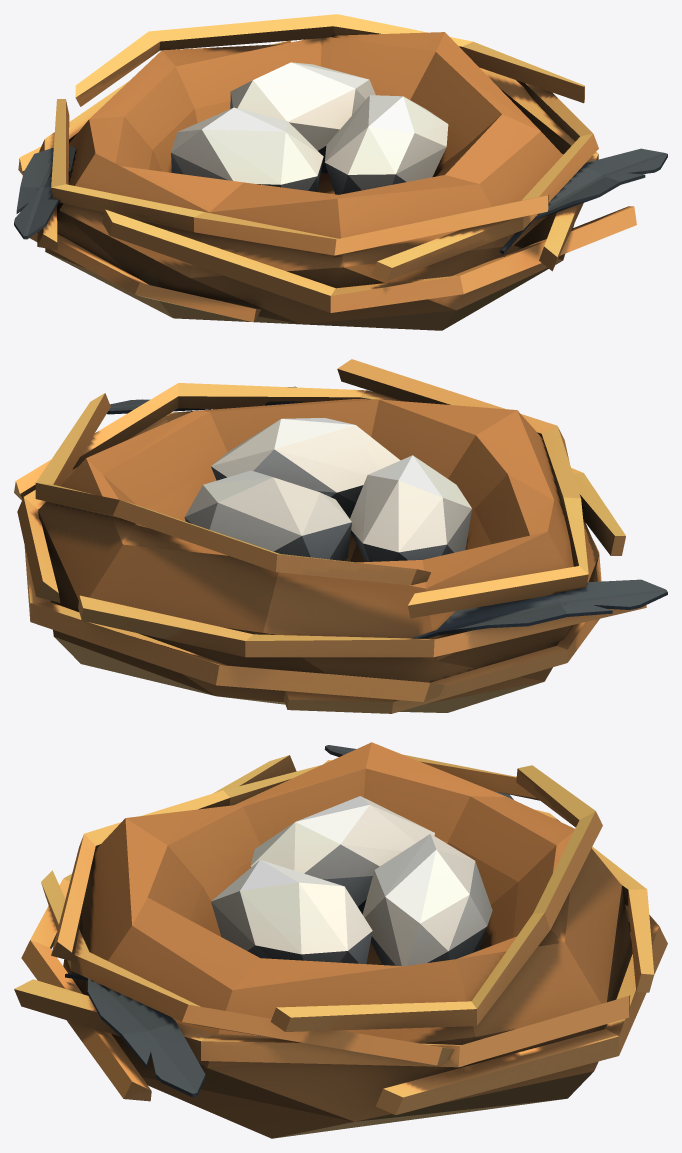
The model's file is Birds_nest.glb.
3 renders of one model, top to bottom at view 1: azimuth 30°, elevation 25°; view 2: azimuth 150°, elevation 25°; view 3: azimuth 270°, elevation 25°, orthographic. The views are drawn at different scales.
Parts seen in each view (by area): view 1: birds_nest; view 2: birds_nest; view 3: birds_nest.
Boxes of the visible parts, x1,y1,x2,y2 form: birds_nest: (14,14,667,330); birds_nest: (14,359,667,713); birds_nest: (14,742,667,1138).
Size of the model in its own units: 4.63 by 1.39 by 3.89.
1 material, 1 textured.
